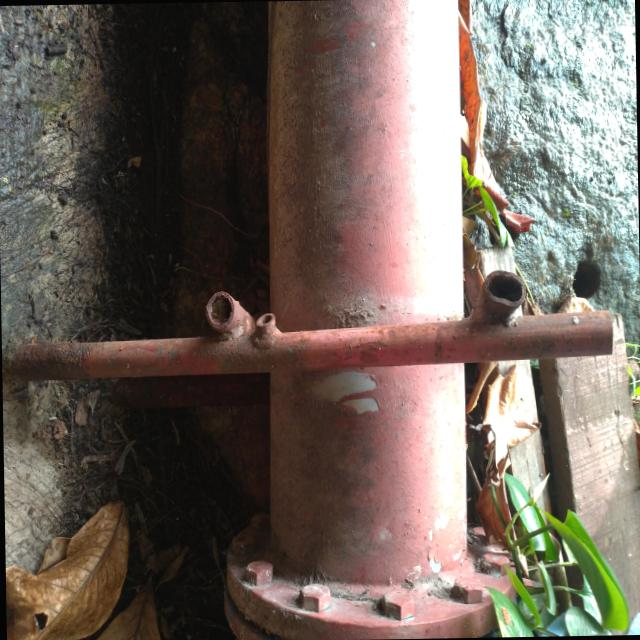gas: (264, 0, 472, 639), (17, 310, 605, 379)
